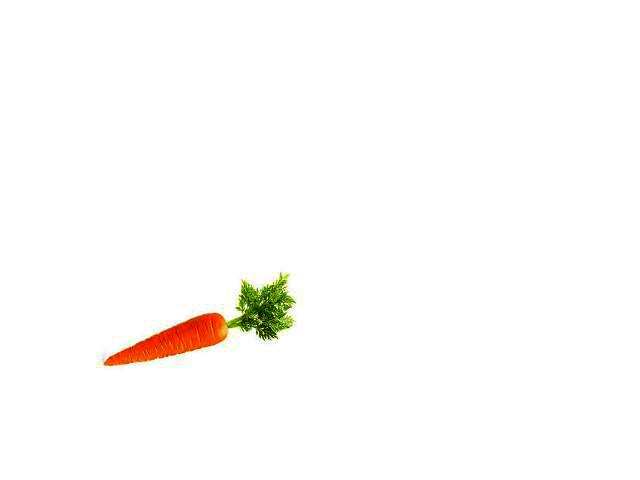carrot: (95, 308, 229, 379)
